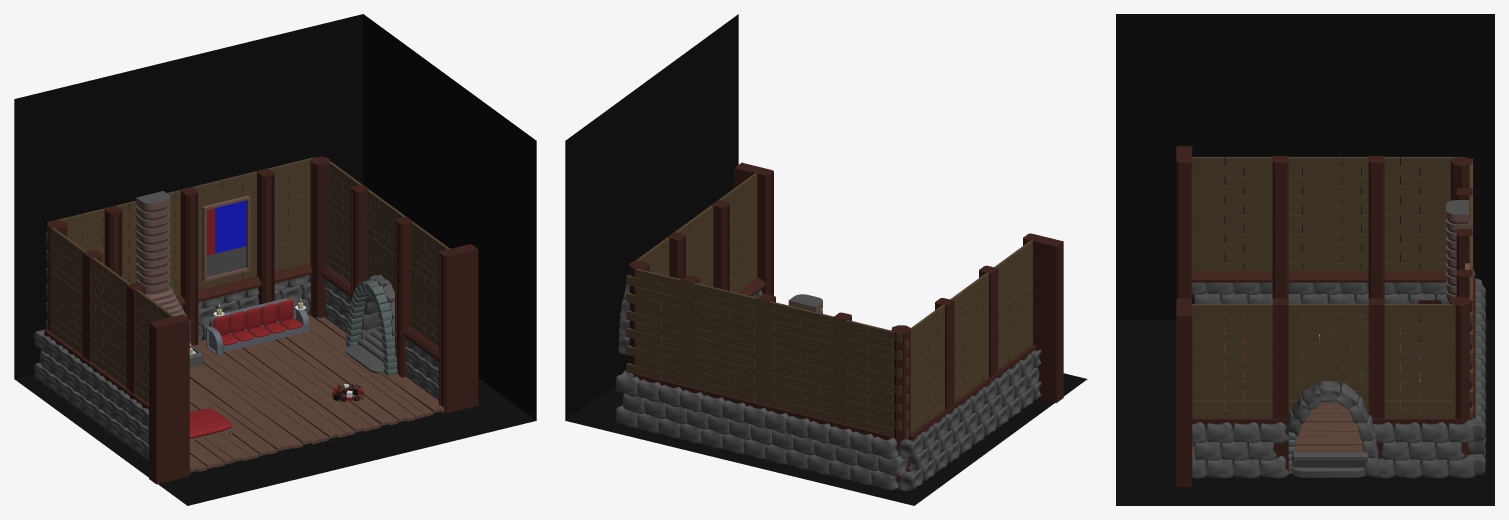
The model's file is 1_level (1).fbx.
3 views of the same model, side by side, from view 1: azimuth 30°, elevation 25°; view 2: azimuth 150°, elevation 25°; view 3: azimuth 270°, elevation 25° (orthographic). The views are drawn at different scales.
Parts seen in each view (by area): view 1: Plane, wall wood, Floor, Door.001, Kamin, Divan, picture, bed; view 2: wall wood, Plane; view 3: Plane, wall wood, Door.001, Floor, Kamin.
Part boxes in pixels (bbox=[...]): Plane: bbox=[14, 14, 536, 505]; wall wood: bbox=[34, 156, 478, 484]; Floor: bbox=[189, 313, 444, 473]; Door.001: bbox=[345, 274, 397, 375]; Kamin: bbox=[136, 191, 203, 366]; Divan: bbox=[206, 298, 309, 355]; picture: bbox=[202, 195, 250, 281]; bed: bbox=[189, 408, 234, 440]; wall wood: bbox=[616, 162, 1063, 491]; Plane: bbox=[565, 14, 1087, 505]; Plane: bbox=[1116, 14, 1494, 505]; wall wood: bbox=[1176, 146, 1485, 486]; Door.001: bbox=[1285, 381, 1379, 477]; Floor: bbox=[1192, 327, 1447, 471]; Kamin: bbox=[1419, 200, 1469, 394].
Size of the model in its own units: 1628 by 1170 by 1306.
